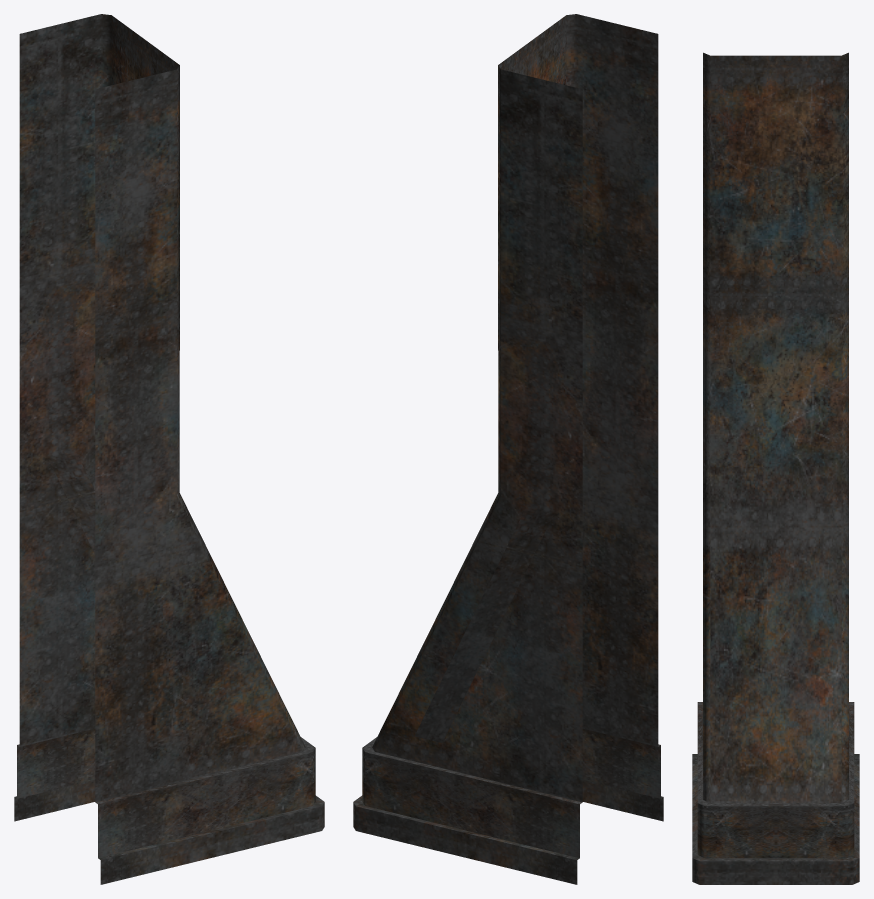
The model's file is Basement_Corridor_C_Pillar_D.glb.
The picture shows the model from 3 angles, left to right: view 1: azimuth 30°, elevation 25°; view 2: azimuth 150°, elevation 25°; view 3: azimuth 270°, elevation 25°; orthographic projection. The views are drawn at different scales.
Parts seen in each view (by area): view 1: Basement_Corridor_C_Pillar_D; view 2: Basement_Corridor_C_Pillar_D; view 3: Basement_Corridor_C_Pillar_D.
Part boxes in pixels (left/top/right/bottom): Basement_Corridor_C_Pillar_D: left=14, top=14, right=324, bottom=884; Basement_Corridor_C_Pillar_D: left=353, top=14, right=663, bottom=884; Basement_Corridor_C_Pillar_D: left=692, top=52, right=859, bottom=884.
Bounding box in the file's own units: 0.9032 × 3 × 0.595.
Materials: 1 (1 with a texture image).
